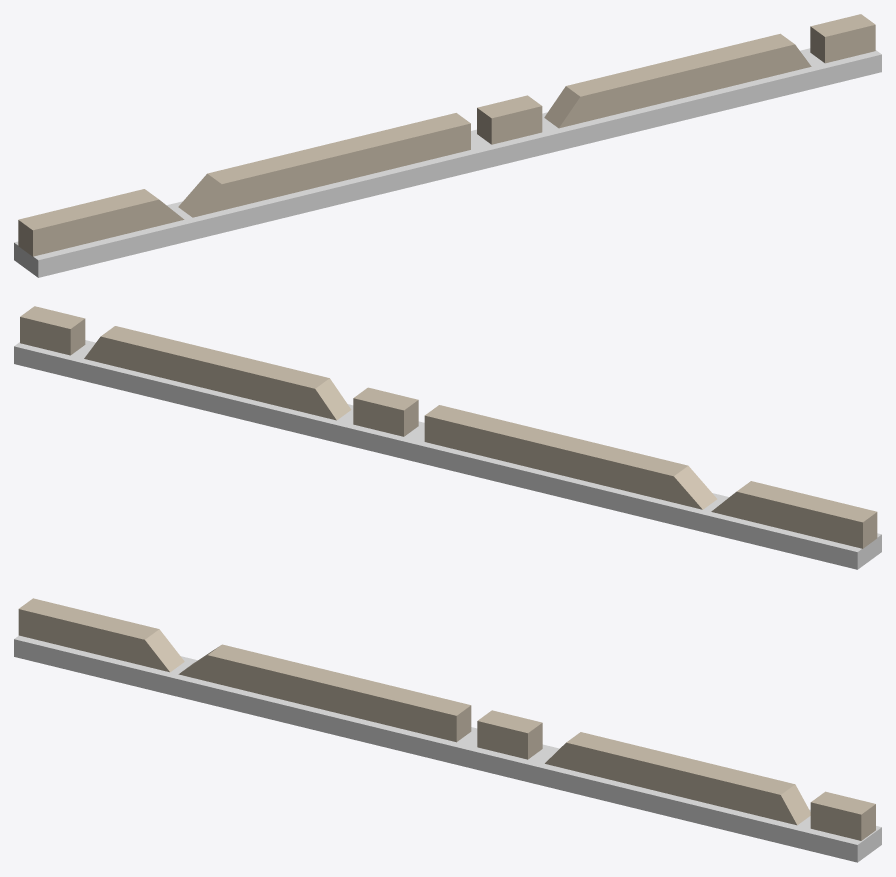
File: Rail_Grand.FBX
The picture shows the model from 3 angles, top to bottom: view 1: azimuth 30°, elevation 25°; view 2: azimuth 150°, elevation 25°; view 3: azimuth 330°, elevation 25°; orthographic projection.
Visible parts, largest first — view 1: Box479, Box477, Box475, Box480, Box476, Box478; view 2: Box479, Box477, Box475, Box480, Box476, Box478; view 3: Box479, Box477, Box475, Box480, Box478, Box476.
Boxes of the visible parts, box(x1,y1,x2,y2) form: Box479: box(14, 48, 881, 277); Box477: box(178, 113, 470, 217); Box475: box(544, 33, 811, 128); Box480: box(18, 189, 184, 256); Box476: box(810, 14, 875, 63); Box478: box(477, 95, 542, 144); Box479: box(14, 340, 881, 569); Box477: box(424, 405, 717, 509); Box475: box(84, 326, 351, 420); Box480: box(711, 481, 877, 548); Box476: box(20, 306, 85, 355); Box478: box(353, 387, 418, 436); Box479: box(14, 635, 881, 862); Box477: box(178, 644, 471, 742); Box475: box(545, 732, 810, 825); Box480: box(18, 598, 184, 672); Box478: box(477, 710, 542, 759); Box476: box(810, 791, 875, 840).
Size of the model in its own units: 394 by 19.64 by 19.69.
